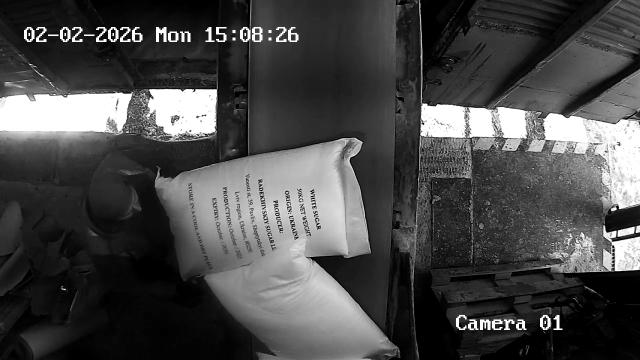bag: (157, 138, 372, 279), (206, 238, 398, 360)
